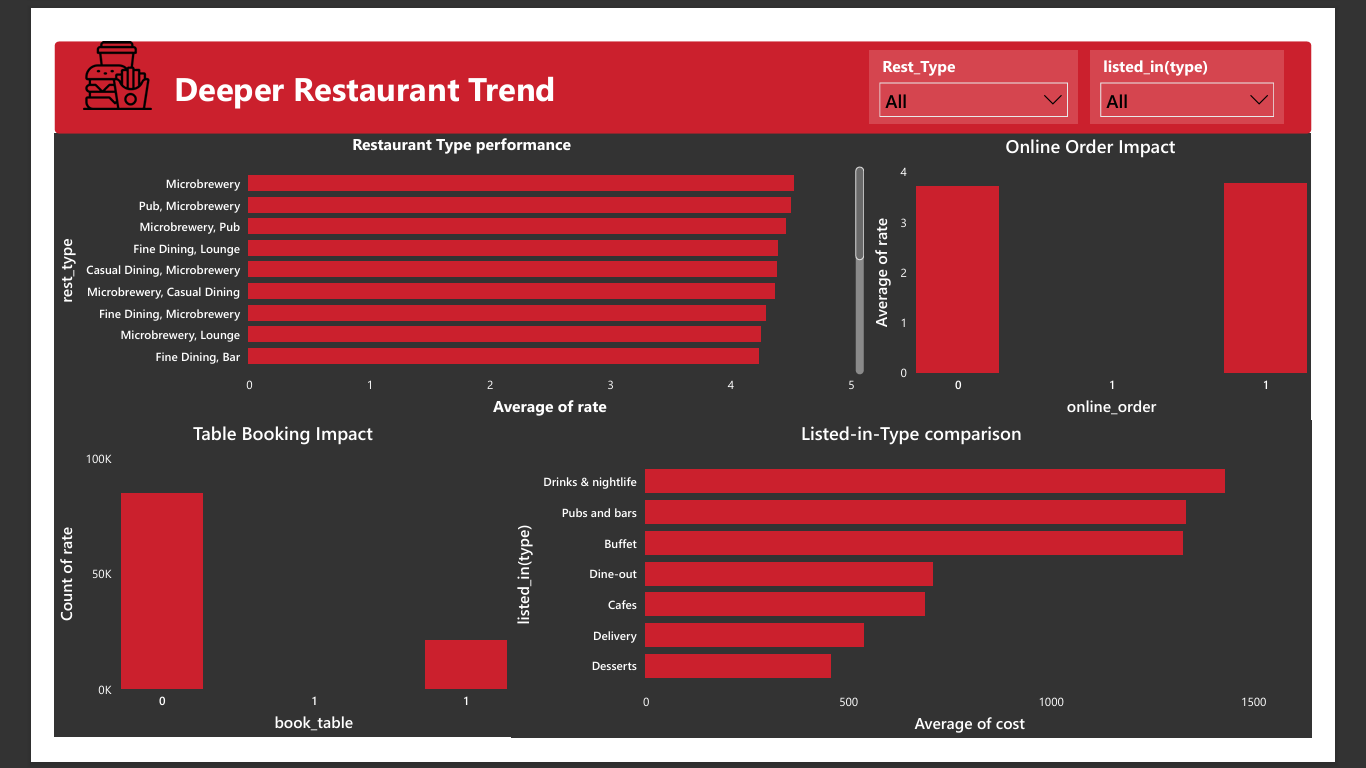

What the dashboard file says about the page in this screenshot:
{"tool":"powerbi","page":{"name":"Restaurant Trend","canvas":[1280,720],"ordinal":1},"visuals":[{"type":"barChart","title":"Restaurant Type performance","fields":{"Category":["zomato_cleaned.rest_type"],"Y":["Avg(zomato_cleaned.rate)"]},"box":[0,103.8,829.5,292.3],"z":0},{"type":"barChart","title":"Listed-in-Type comparison","fields":{"Category":["zomato_cleaned.listed_in(type)"],"Y":["Avg(zomato_cleaned.cost)"]},"box":[464.8,396.3,814.8,322.2],"z":1000},{"type":"columnChart","title":"Online Order Impact","fields":{"Category":["zomato_cleaned.online_order"],"Y":["Avg(zomato_cleaned.rate)"]},"box":[830,104.3,450,291.4],"z":2000},{"type":"columnChart","title":"Table Booking Impact","fields":{"Category":["zomato_cleaned.book_table"],"Y":["CountNonNull(zomato_cleaned.rate)"]},"box":[0,396.2,465.4,321.8],"z":3000},{"type":"shape","box":[0,10,1280,94.3],"z":4000},{"type":"slicer","fields":{"Values":["zomato_cleaned.rest_type"]},"box":[830,19,212,75],"z":5000},{"type":"slicer","fields":{"Values":["zomato_cleaned.listed_in(type)"]},"box":[1055,19,197,75],"z":6000},{"type":"image","box":[11.4,10,104.3,70],"z":7000}]}

Visuals, with their boxes in screenshot pixels (x1, y1, x2, y2), scaled from the page's 1280x720 canvas onto the 1366x768 screenshot:
"Restaurant Type performance" barChart: (0, 111, 885, 423)
"Listed-in-Type comparison" barChart: (496, 423, 1365, 766)
"Online Order Impact" columnChart: (886, 111, 1365, 422)
"Table Booking Impact" columnChart: (0, 423, 497, 766)
shape: (0, 11, 1365, 111)
slicer - zomato_cleaned.rest_type: (886, 20, 1112, 100)
slicer - zomato_cleaned.listed_in(type): (1126, 20, 1336, 100)
image: (12, 11, 123, 85)
